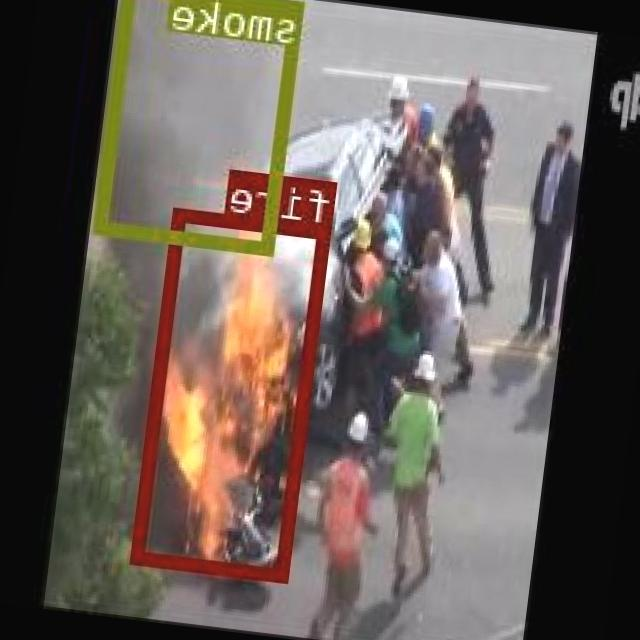fire: (135, 206, 333, 580)
smoke: (96, 0, 306, 251)
